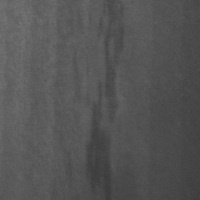inclusion: (81, 3, 123, 199)
